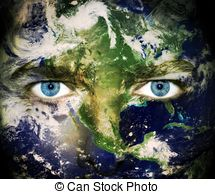face: (1, 3, 214, 179)
